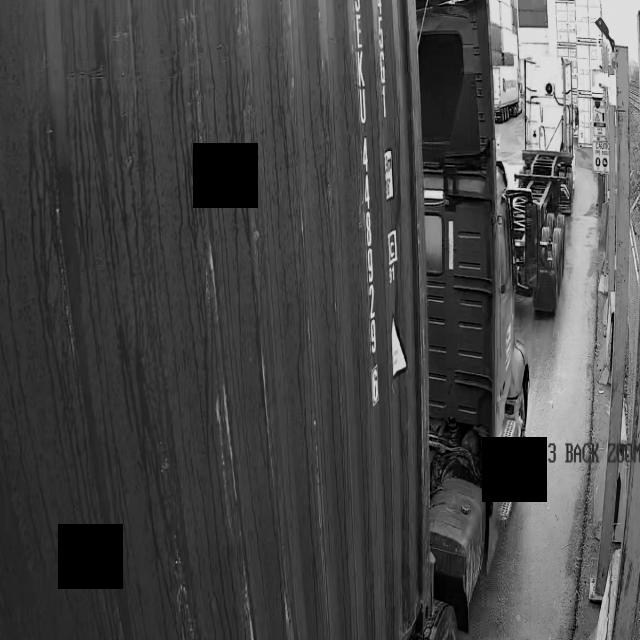container_side_no: (349, 0, 385, 422)
truck_with_container: (0, 0, 531, 640)
truck_without_container: (505, 56, 574, 313)
